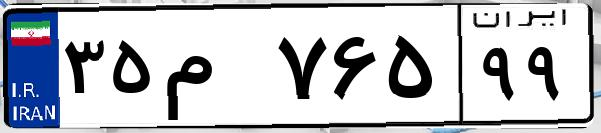3: (57, 26, 110, 100)
5: (385, 28, 445, 110), (110, 28, 158, 98)
6: (330, 28, 385, 110)
7: (270, 28, 330, 110)
9: (475, 38, 525, 113), (525, 38, 570, 115)
م: (158, 20, 270, 120)
